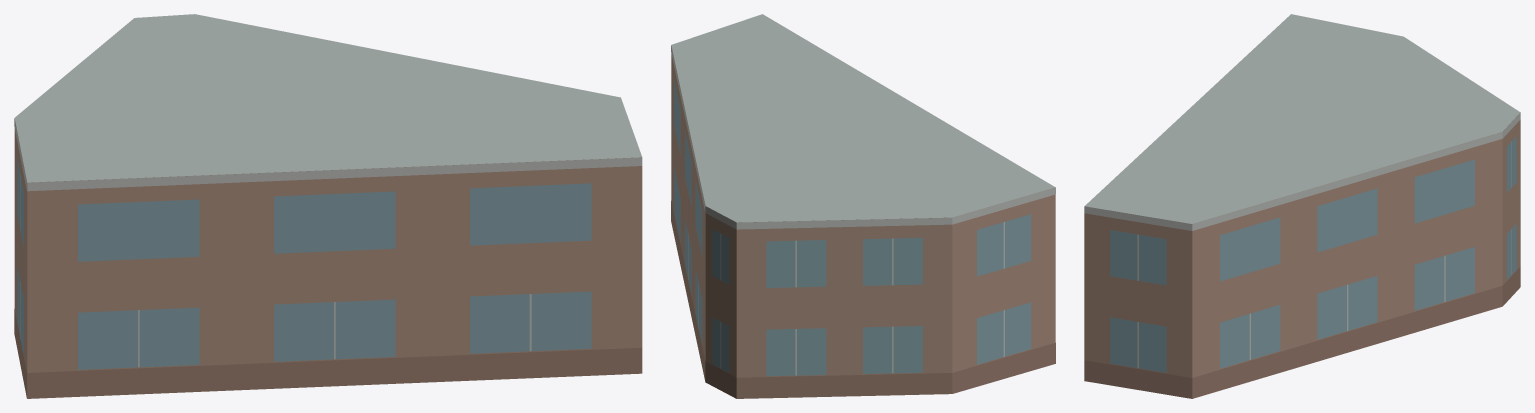
File: survey-upis-32670501.glb
3 renders of one model, left to right at view 1: azimuth 30°, elevation 25°; view 2: azimuth 150°, elevation 25°; view 3: azimuth 270°, elevation 25°, orthographic. The views are drawn at different scales.
Parts seen in each view (by area): view 1: survey-upis-32670501.tmp; view 2: survey-upis-32670501.tmp; view 3: survey-upis-32670501.tmp.
Part boxes in pixels (box(x1,y1,x2,y2)): survey-upis-32670501.tmp: box(14, 14, 642, 398); survey-upis-32670501.tmp: box(671, 14, 1055, 398); survey-upis-32670501.tmp: box(1084, 14, 1520, 398).
Bounding box in the file's own units: 15.73 × 6.1 × 13.81.
